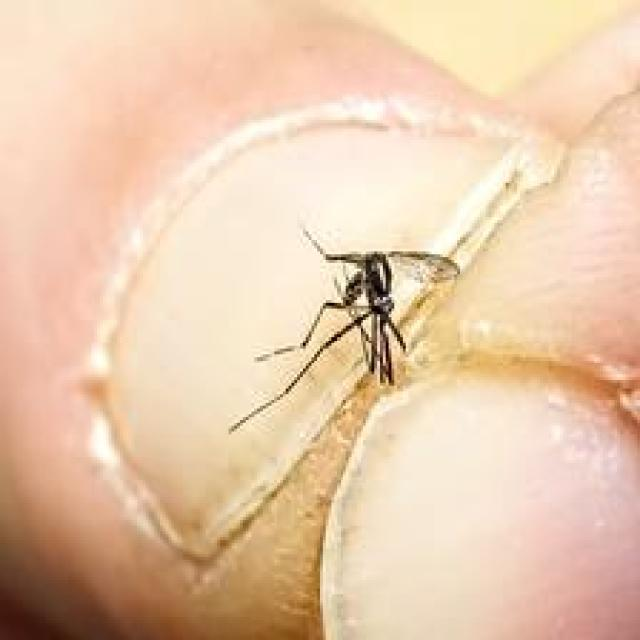Aedes albopictus: (227, 224, 462, 436)
